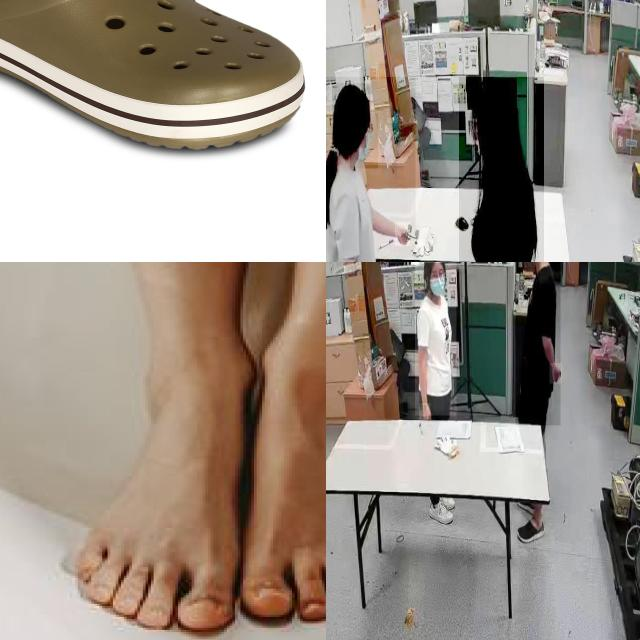Barefoots: (79, 352, 326, 633)
Sandals: (0, 0, 308, 151)
face_mask: (350, 114, 378, 168), (429, 269, 447, 304)
hand_noglove: (395, 222, 411, 246), (550, 363, 562, 385), (419, 403, 431, 421), (379, 255, 395, 262)
head_nohelmet: (472, 78, 518, 120), (332, 83, 371, 121)
person: (326, 77, 416, 262), (459, 77, 544, 262), (515, 262, 560, 426), (415, 262, 457, 416)
shoes: (516, 514, 546, 546), (428, 501, 454, 527)
